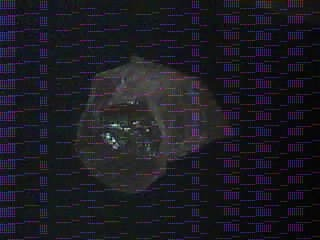plastic: (74, 56, 233, 191)
